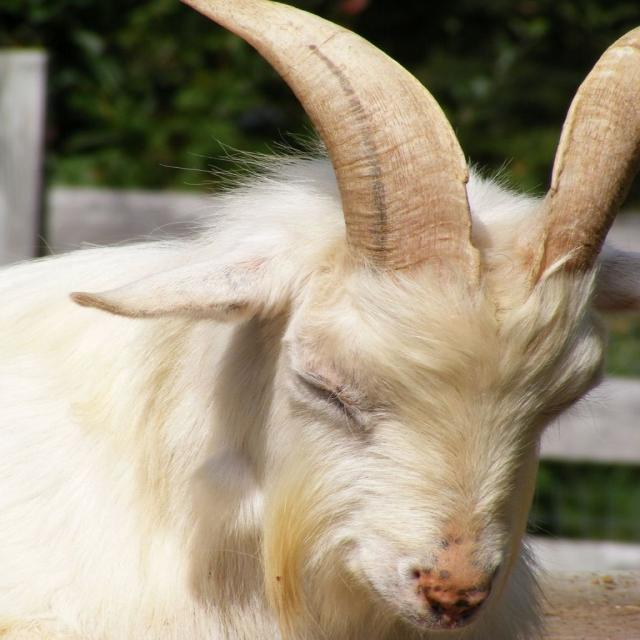Goat: (9, 0, 631, 640)
